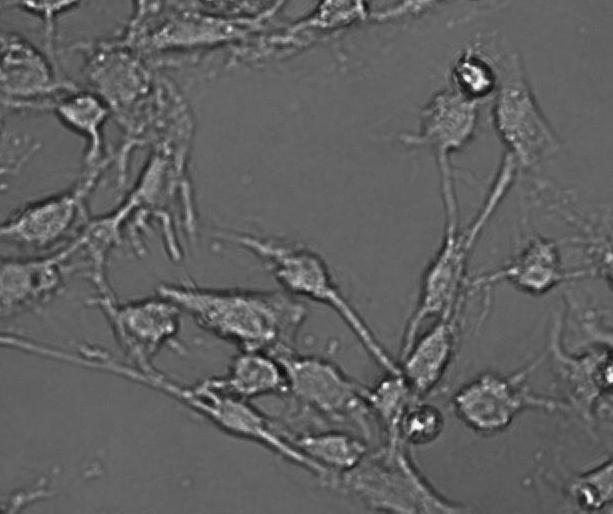Dead: (452, 49, 498, 100), (404, 404, 445, 443)
